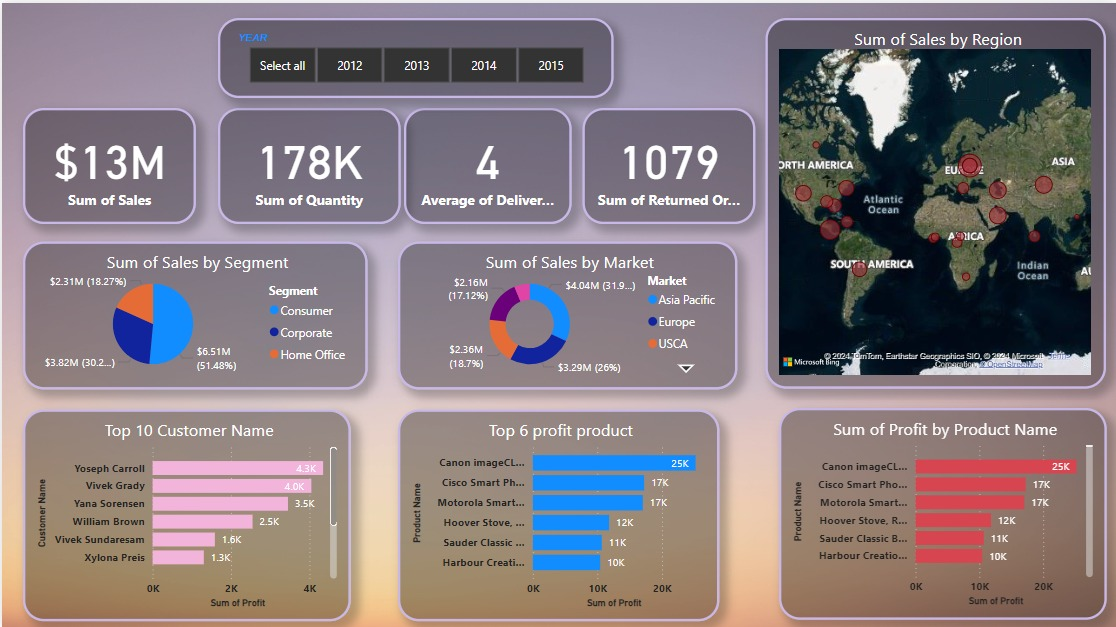

The page's visual inventory and layout, read from the dashboard file:
{"tool":"powerbi","page":{"name":"Page 1","canvas":[1280,720],"ordinal":0},"visuals":[{"type":"card","fields":{"Values":["Orders.Sales"]},"box":[23.9,120.9,198.8,133.6],"z":0},{"type":"card","fields":{"Values":["Orders.Quantity"]},"box":[248.1,120.9,210,133.6],"z":1000},{"type":"card","fields":{"Values":["Orders.Delivery days"]},"box":[462.9,120.9,192.5,133.6],"z":2000},{"type":"slicer","fields":{"Values":["Orders.year"]},"box":[248.1,17.5,454.9,92.3],"z":3000},{"type":"card","fields":{"Values":["Returns.Returned Orders"]},"box":[668.1,120.9,198.8,133.6],"z":4000},{"type":"map","fields":{"Category":["Orders.Region"],"Size":["Orders.Sales"]},"box":[878,17.5,391.3,426.3],"z":5000},{"type":"barChart","fields":{"Category":["Orders.Product Name"],"Y":["Orders.Profit"]},"box":[892.3,466,377,243.4],"z":6000},{"type":"barChart","title":"Top 6 profit product","fields":{"Category":["Orders.Product Name"],"Y":["Orders.Profit"]},"box":[454.9,467.6,369,243.4],"z":7000},{"type":"pieChart","fields":{"Category":["Orders.Segment"],"Y":["Orders.Sales"]},"box":[23.9,273.6,396.1,170.2],"z":8000},{"type":"donutChart","fields":{"Y":["Orders.Sales"],"Category":["Orders.Market"]},"box":[454.9,273.6,389.7,170.2],"z":9000},{"type":"barChart","title":"Top 10 Customer  Name","fields":{"Y":["Orders.Profit"],"Category":["Orders.Customer Name"]},"box":[23.9,467.6,377,243.4],"z":10000}]}

Visuals, with their boxes in screenshot pixels (x1, y1, x2, y2), scaled from the page's 1280x720 canvas onto the 1116x627 screenshot:
card - Orders.Sales: pyautogui.locateOnScreen(21, 105, 194, 222)
card - Orders.Quantity: pyautogui.locateOnScreen(216, 105, 399, 222)
card - Orders.Delivery days: pyautogui.locateOnScreen(404, 105, 571, 222)
slicer - Orders.year: pyautogui.locateOnScreen(216, 15, 613, 96)
card - Returns.Returned Orders: pyautogui.locateOnScreen(582, 105, 756, 222)
map - Orders.Region x Orders.Sales: pyautogui.locateOnScreen(766, 15, 1107, 386)
barChart - Orders.Product Name x Orders.Profit: pyautogui.locateOnScreen(778, 406, 1107, 618)
"Top 6 profit product" barChart: pyautogui.locateOnScreen(397, 407, 718, 619)
pieChart - Orders.Segment x Orders.Sales: pyautogui.locateOnScreen(21, 238, 366, 386)
donutChart - Orders.Sales x Orders.Market: pyautogui.locateOnScreen(397, 238, 736, 386)
"Top 10 Customer  Name" barChart: pyautogui.locateOnScreen(21, 407, 350, 619)
